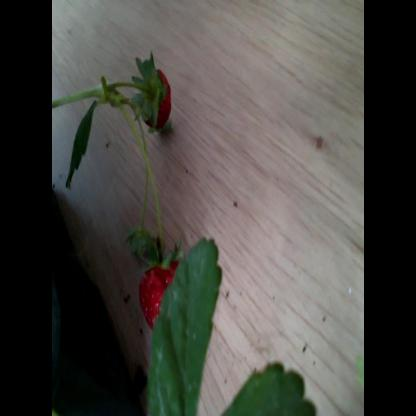ripe: (140, 263, 182, 331), (139, 66, 171, 130)
